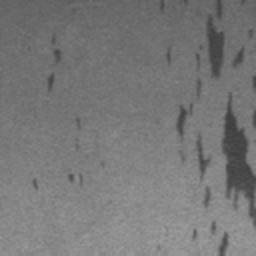Red iron sheet: (176, 0, 256, 227), (191, 220, 229, 256), (47, 74, 55, 92), (53, 49, 62, 64), (166, 46, 172, 65), (31, 178, 39, 190)
